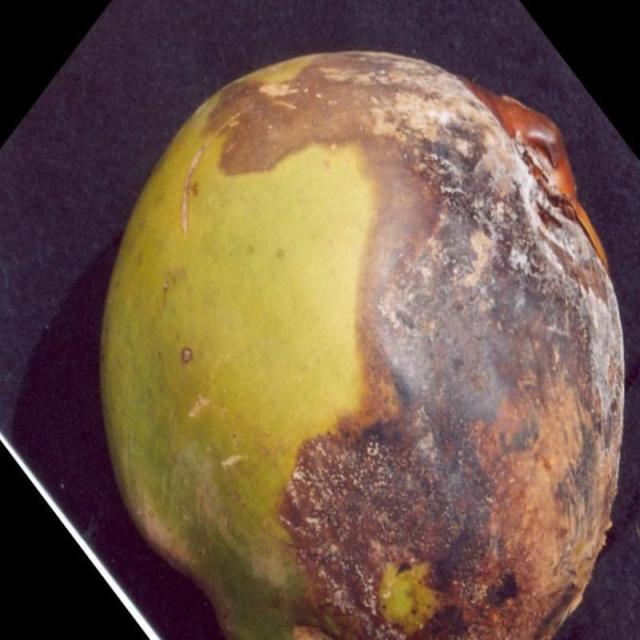damaged: (98, 51, 627, 639)
